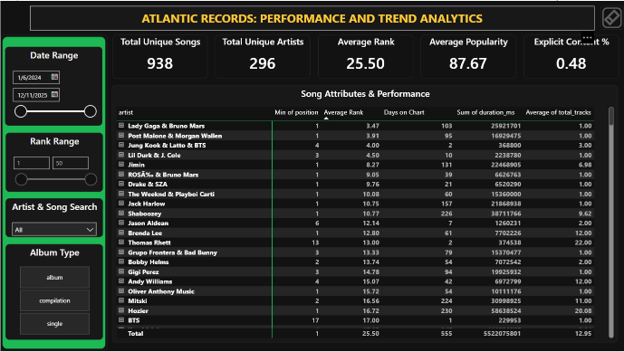

This screenshot's page, from the dashboard's own definition file:
{"tool":"powerbi","page":{"name":"Page 2","canvas":[1280,720],"ordinal":1},"visuals":[{"type":"pivotTable","title":"Song Attributes & Performance","fields":{"Rows":["Atlantic_United_states.artist","Atlantic_United_states.song"],"Values":["Min(Atlantic_United_states.position)","new measures.Average Rank","new measures.Days on Chart","Sum(Atlantic_United_states.duration_ms)","Avg(Atlantic_United_states.total_tracks)"]},"box":[229.4,172.7,1038.5,528.9],"z":0},{"type":"cardVisual","title":"Total Unique Songs","fields":{"Data":["Count(Atlantic_United_states.song)"]},"box":[230,70,195,90],"z":6},{"type":"cardVisual","title":"Total Unique Artists","fields":{"Data":["Count(Atlantic_United_states.artist)"]},"box":[441,70.1,195,90],"z":7},{"type":"cardVisual","title":"Average Rank","fields":{"Data":["new measures.Average Rank"]},"box":[652,70,195,90],"z":8},{"type":"cardVisual","title":"Average Popularity","fields":{"Data":["Avg(Atlantic_United_states.popularity)"]},"box":[863,70.1,195,90],"z":9},{"type":"cardVisual","title":"Explicit Content %","fields":{"Data":["new measures.Explicit Content Share %"]},"box":[1074,70.1,195,90],"z":10},{"type":"shape","box":[0,70,219.8,649.7],"z":11},{"type":"slicer","title":"Date Range","fields":{"Values":["Atlantic_United_states.date"]},"box":[9.7,94.2,199.9,162.5],"z":12},{"type":"slicer","title":"Rank Range","fields":{"Values":["Atlantic_United_states.position"]},"box":[10,270.7,199.9,121.6],"z":13},{"type":"slicer","title":"Artist & Song Search","fields":{"Values":["Atlantic_United_states.artist","Atlantic_United_states.song"]},"box":[10,406.3,200,80],"z":14},{"type":"slicer","title":"Album Type","fields":{"Values":["Atlantic_United_states.album_type"]},"box":[10,500.3,199.9,196.5],"z":15},{"type":"textbox","box":[60.3,10,1159.1,50.2],"z":16},{"type":"actionButton","box":[1231.7,9.7,48.3,50.7],"z":17}]}

Visuals, with their boxes in screenshot pixels (x1, y1, x2, y2), scaled from the page's 1280x720 canvas onto the 624x352 screenshot:
"Song Attributes & Performance" pivotTable: [112,84,618,343]
"Total Unique Songs" cardVisual: [112,34,207,78]
"Total Unique Artists" cardVisual: [215,34,310,78]
"Average Rank" cardVisual: [318,34,413,78]
"Average Popularity" cardVisual: [421,34,516,78]
"Explicit Content %" cardVisual: [524,34,619,78]
shape: [0,34,107,351]
"Date Range" slicer: [5,46,102,125]
"Rank Range" slicer: [5,132,102,192]
"Artist & Song Search" slicer: [5,199,102,238]
"Album Type" slicer: [5,245,102,341]
textbox: [29,5,594,29]
actionButton: [600,5,623,30]
